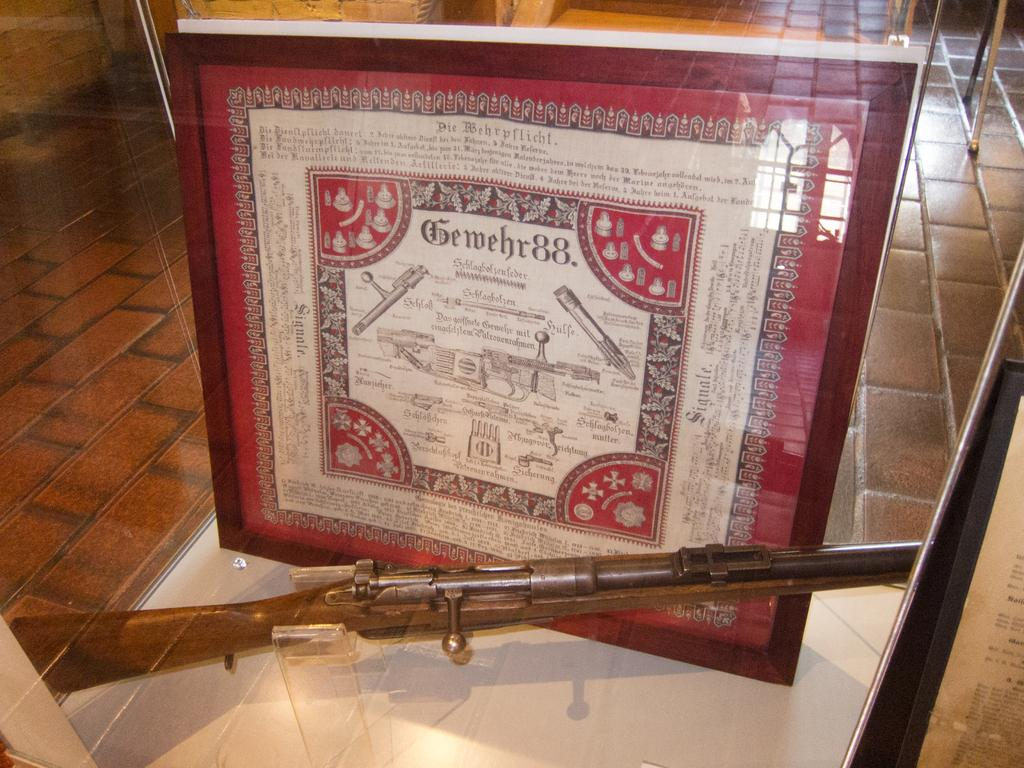Shotgun: (11, 543, 923, 696)
